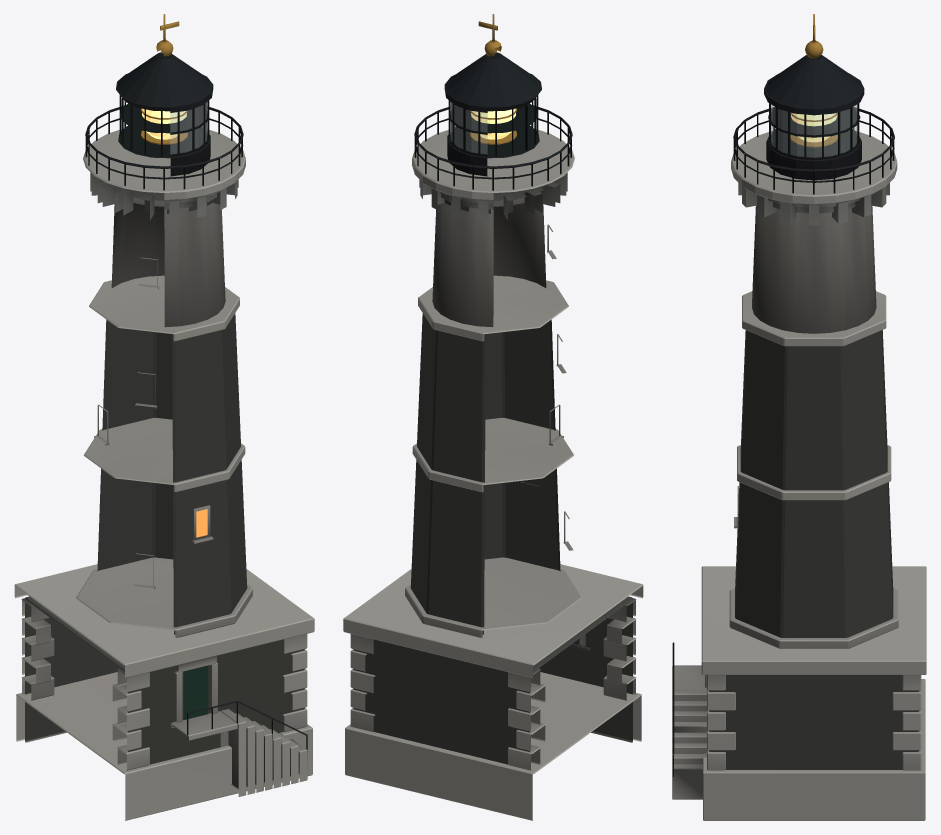
The model's file is lighthouse.glb.
The picture shows the model from 3 angles, left to right: view 1: azimuth 30°, elevation 25°; view 2: azimuth 150°, elevation 25°; view 3: azimuth 270°, elevation 25°; orthographic projection. The views are drawn at different scales.
Visible parts, largest first — view 1: tower_opaque, tower_glass, lens; view 2: tower_opaque, tower_glass, lens; view 3: tower_opaque, tower_glass, lens.
Boxes of the visible parts, left/top/right/bottom form: tower_opaque: left=14, top=14, right=314, bottom=820; tower_glass: left=170, top=102, right=207, bottom=154; lens: left=141, top=108, right=187, bottom=144; tower_opaque: left=343, top=14, right=643, bottom=820; tower_glass: left=450, top=102, right=487, bottom=154; lens: left=470, top=108, right=516, bottom=144; tower_opaque: left=672, top=14, right=926, bottom=820; tower_glass: left=771, top=104, right=857, bottom=157; lens: left=790, top=112, right=837, bottom=147.
Bounding box in the file's own units: 10.58 × 39.41 × 11.96.
